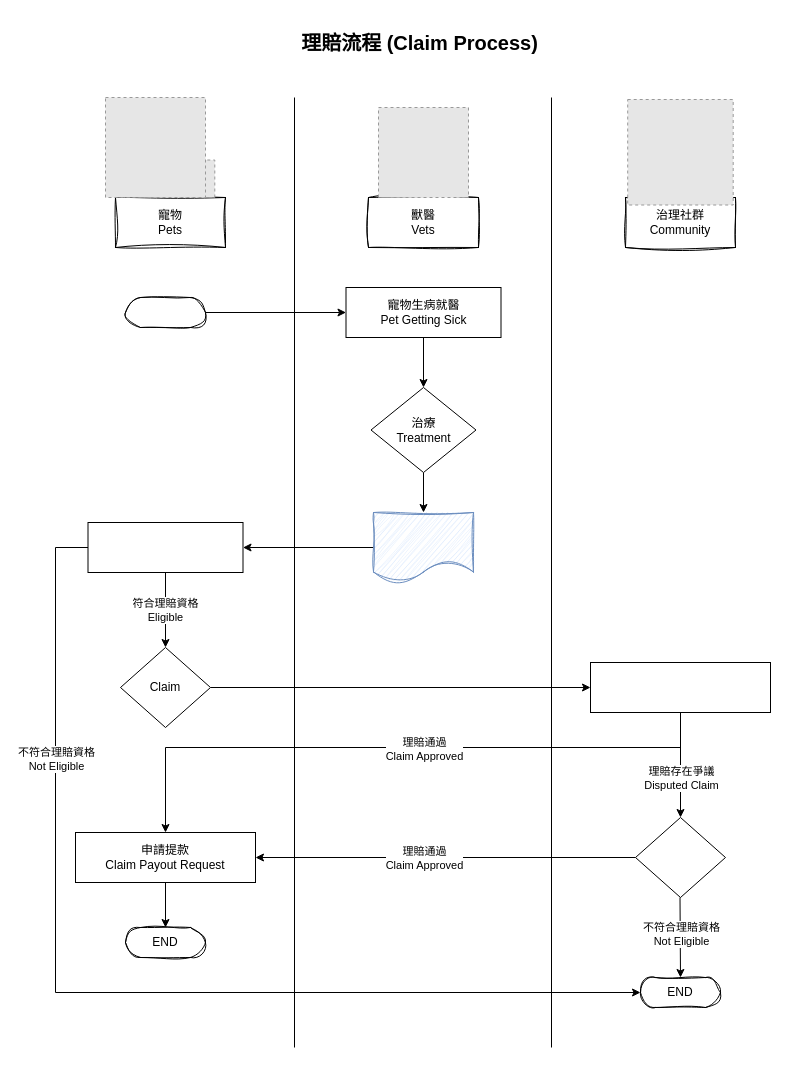
Some shapes in this 788 by 1065 pixel diagram are drawn without their labels. Grey dashed boxes stand in for pictures. Here are the shapes that lost their labels. From the top down, the centre of each, then its label:
At (x=165, y=312): "START".
At (x=165, y=547): "理賠申請 Claim Application".
At (x=423, y=547): "Medical Record".
At (x=680, y=687): "審核理賠申請 Assessing Claim Requirements".
At (x=680, y=857): "Vote".
